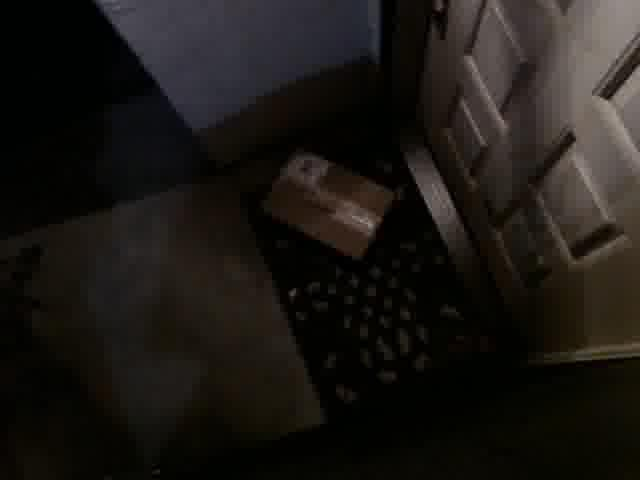box: (259, 148, 396, 265)
